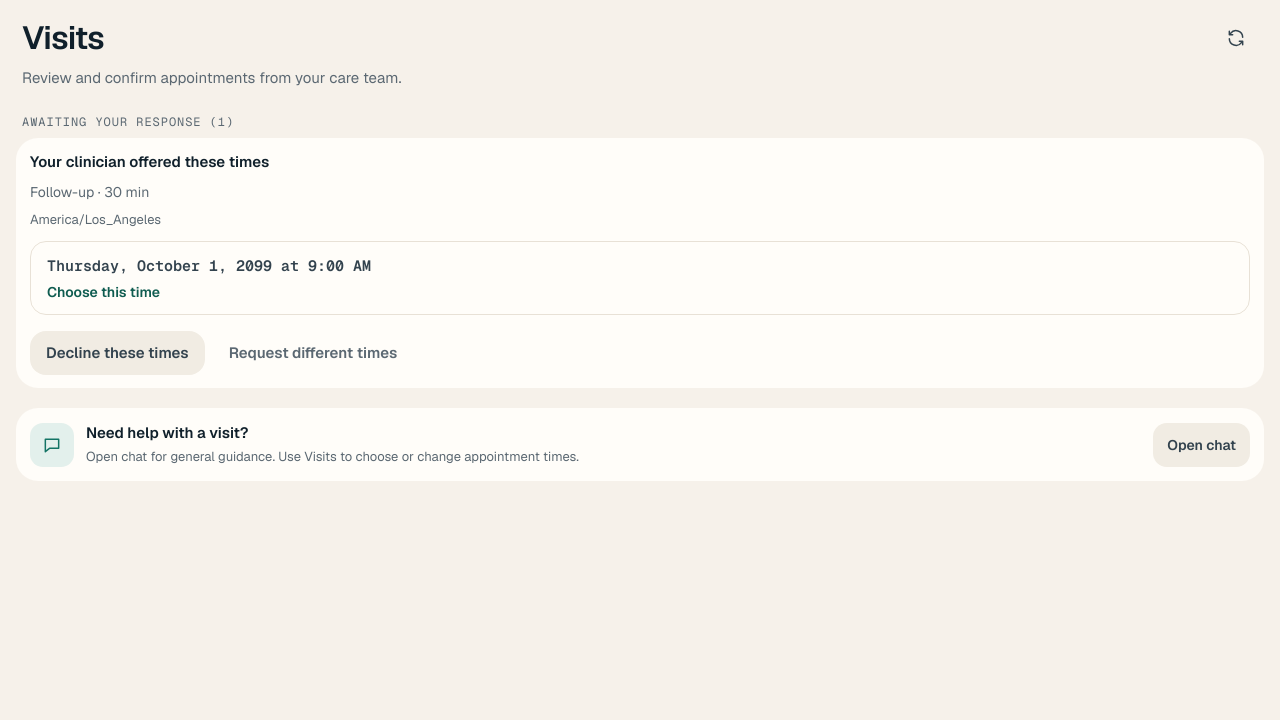
Test case: Visits recovery with the real data hook › retains a saved-response warning through a failed retry and clears it after recovery
Click the button with aria-label "Choose this time:" at {"x": 209, "y": 266}, box left=30, top=241, right=1250, bottom=315
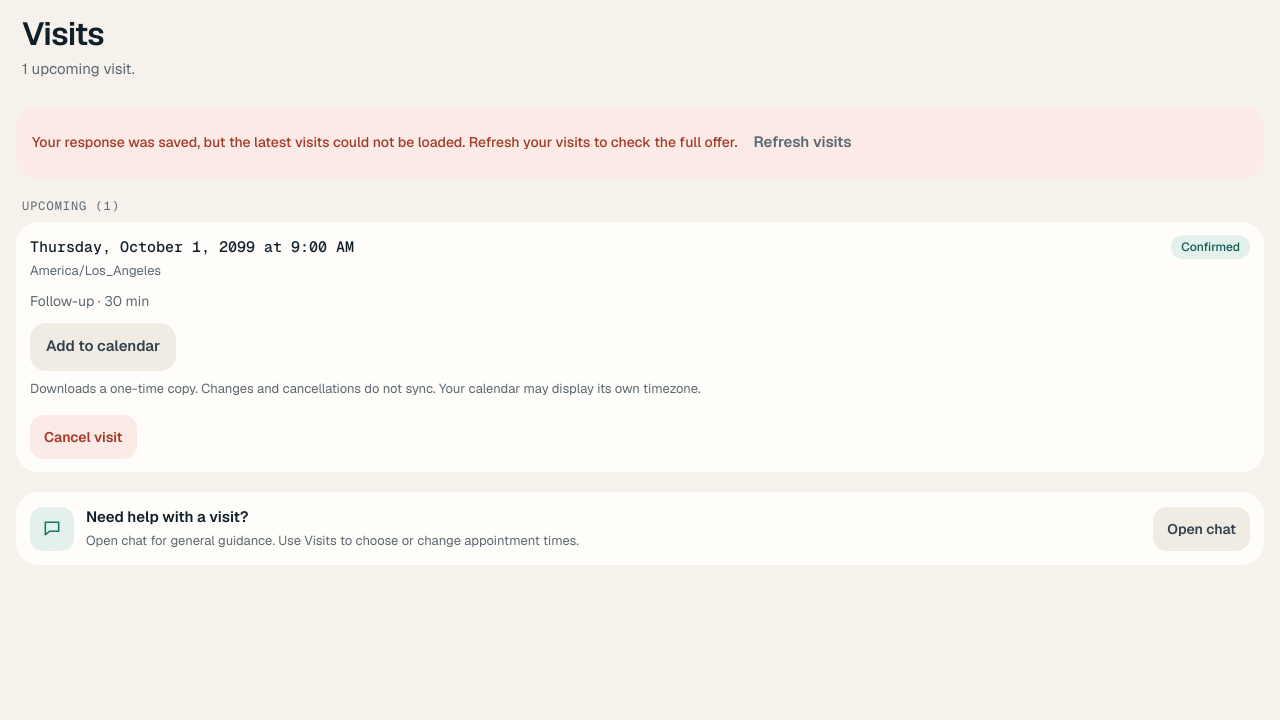
Result: the message is shown at left=16, top=106, right=1264, bottom=178
Click the button "Refresh visits" at {"x": 802, "y": 142}, box left=737, top=118, right=868, bottom=166
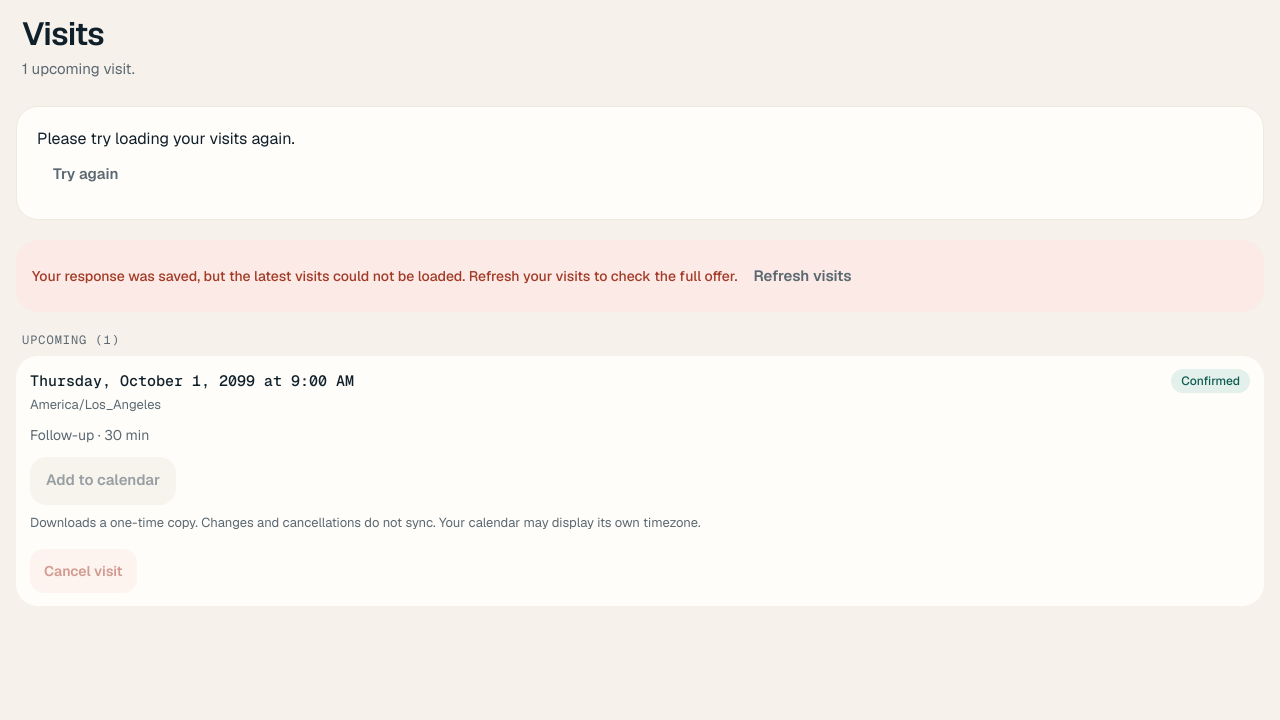
Result: the text "Your response was saved" is shown at left=32, top=267, right=737, bottom=285
Result: the text "Confirmed" is shown at left=1171, top=369, right=1250, bottom=393
Result: the text "Please try loading your visits again." is shown at left=37, top=128, right=295, bottom=149
Click the button "Try again" at {"x": 86, "y": 175}, box left=37, top=151, right=134, bottom=199
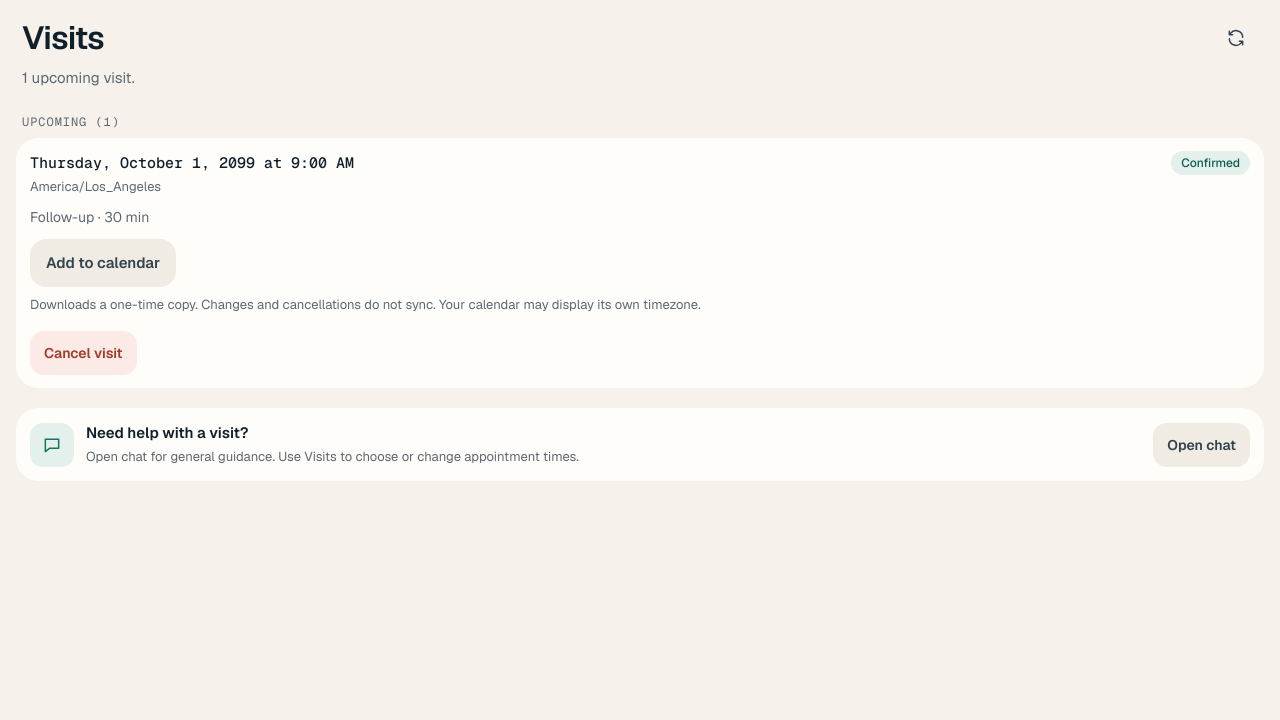
Result: the text "Confirmed" is shown at left=1171, top=151, right=1250, bottom=175
Result: no messages are shown
